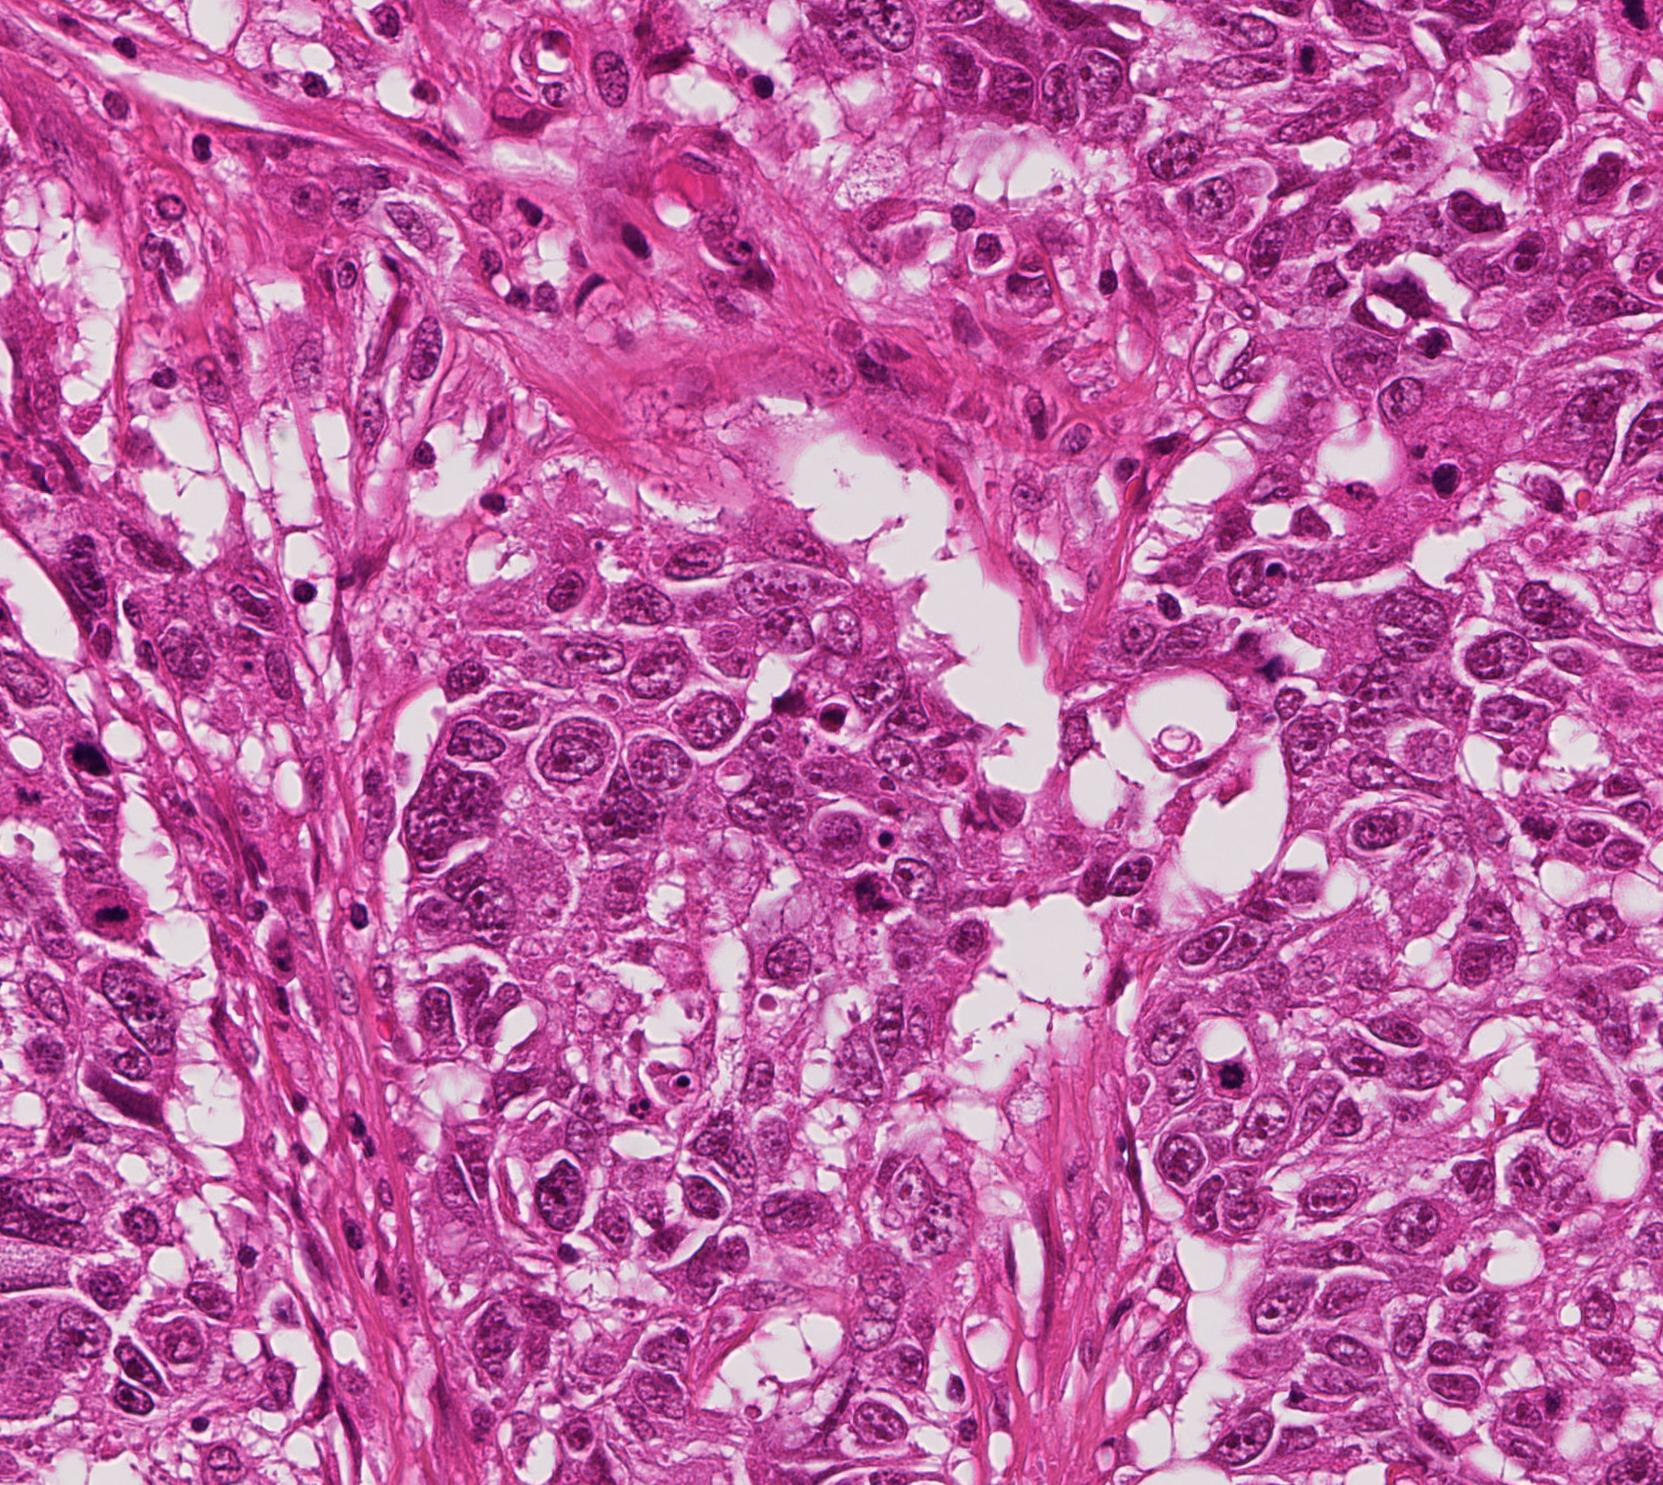mitosis: (1601, 0, 1662, 36)
